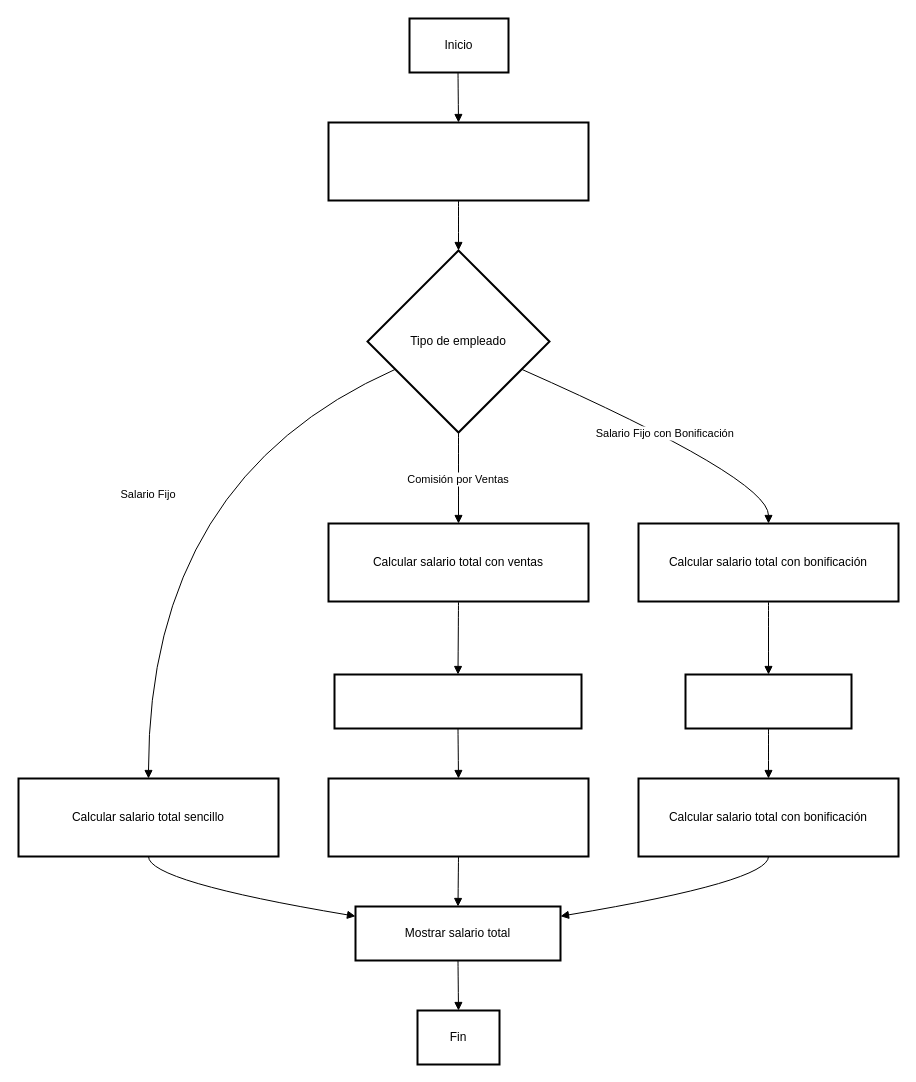
Some shapes in this 916 by 1082 pixel diagram are drawn without their labels. The box of each missing label's shape, as (x1, y1, x2, y2) in pixels:
Calcular salario total con comisión: (327, 777, 589, 857)
Obtener información básica del empleado: (327, 121, 589, 201)
Obtener logros: (684, 673, 852, 729)
Obtener ventas realizadas: (333, 673, 582, 729)
